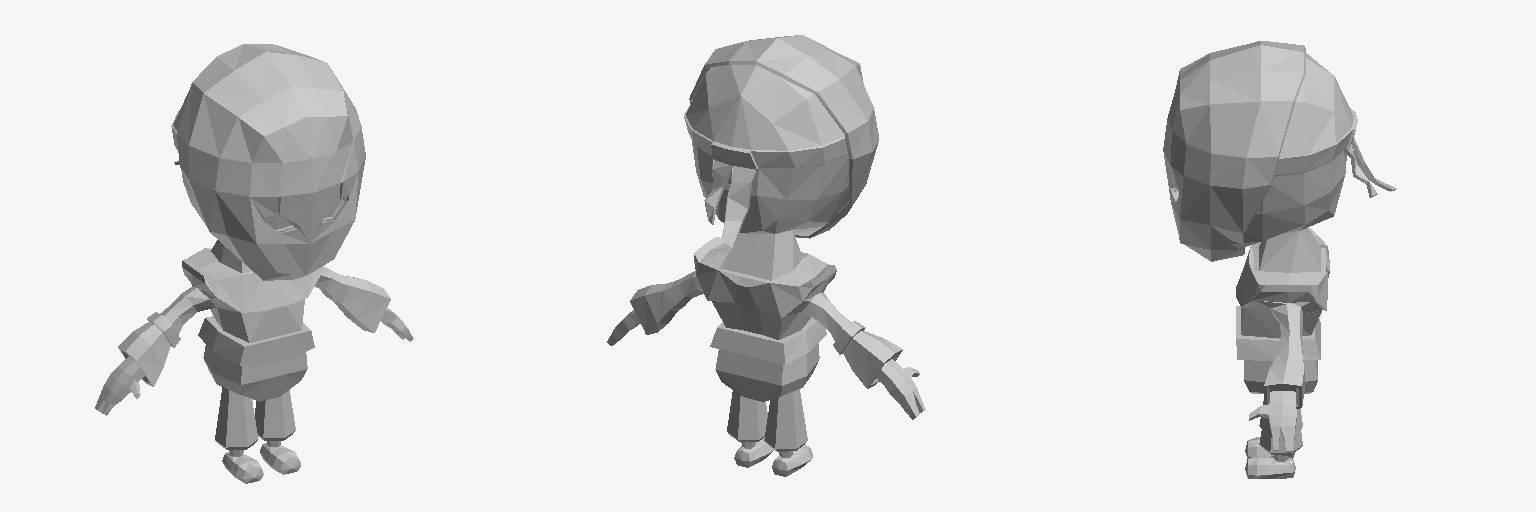
The model's file is chibi_Ninja.obj.
3 renders of one model, left to right at view 1: azimuth 30°, elevation 25°; view 2: azimuth 150°, elevation 25°; view 3: azimuth 270°, elevation 25°, orthographic.
Visible parts, largest first — view 1: Ninja; view 2: Ninja; view 3: Ninja.
Part boxes in pixels (x1,y1,x2,y2): Ninja: (95,44,413,483); Ninja: (607,35,925,476); Ninja: (1163,41,1396,478).
Size of the model in its own units: 3.08 by 4 by 2.01.